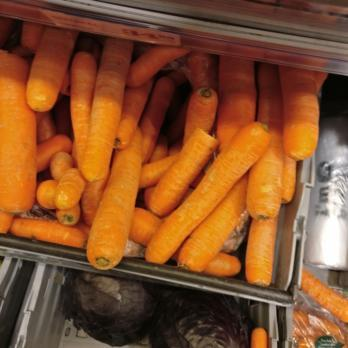Carrot: (2, 21, 90, 241), (152, 47, 240, 267), (239, 66, 315, 289), (92, 41, 157, 268)
